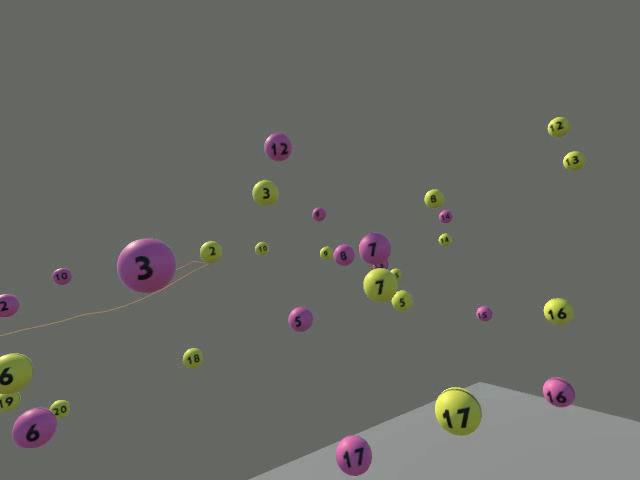ball_02_yellow: (199, 240, 222, 262)
ball_03_pink: (116, 237, 175, 293)
ball_03_yellow: (252, 180, 278, 206)
ball_05_pink: (288, 307, 312, 331)
ball_05_yellow: (390, 289, 412, 311)
ball_06_pink: (11, 407, 56, 448)
ball_07_pink: (358, 231, 391, 265)
ball_07_yellow: (362, 267, 397, 302)
ball_08_pink: (332, 244, 354, 265)
ball_08_yellow: (423, 189, 445, 209)
ball_09_pink: (311, 207, 325, 221)
ball_09_yellow: (319, 245, 332, 260)
ball_10_pink: (0, 391, 20, 411), (51, 267, 71, 285)
ball_10_yellow: (254, 241, 268, 255)
ball_12_pink: (263, 132, 292, 161)
ball_12_yellow: (546, 116, 569, 137)
ball_13_yellow: (563, 152, 585, 170)
ball_14_pink: (438, 209, 452, 223)
ball_14_yellow: (438, 233, 453, 247)
ball_15_pink: (475, 305, 492, 321)
ball_16_pink: (541, 377, 574, 407)
ball_16_yellow: (542, 297, 573, 324)
ball_17_pink: (335, 434, 371, 475)
ball_17_yellow: (434, 386, 481, 435)
ball_18_yellow: (182, 348, 202, 368)
ball_20_yellow: (49, 399, 69, 417)
ball_unknown: (0, 352, 32, 393), (0, 293, 19, 317), (390, 267, 401, 280), (373, 259, 388, 268)
